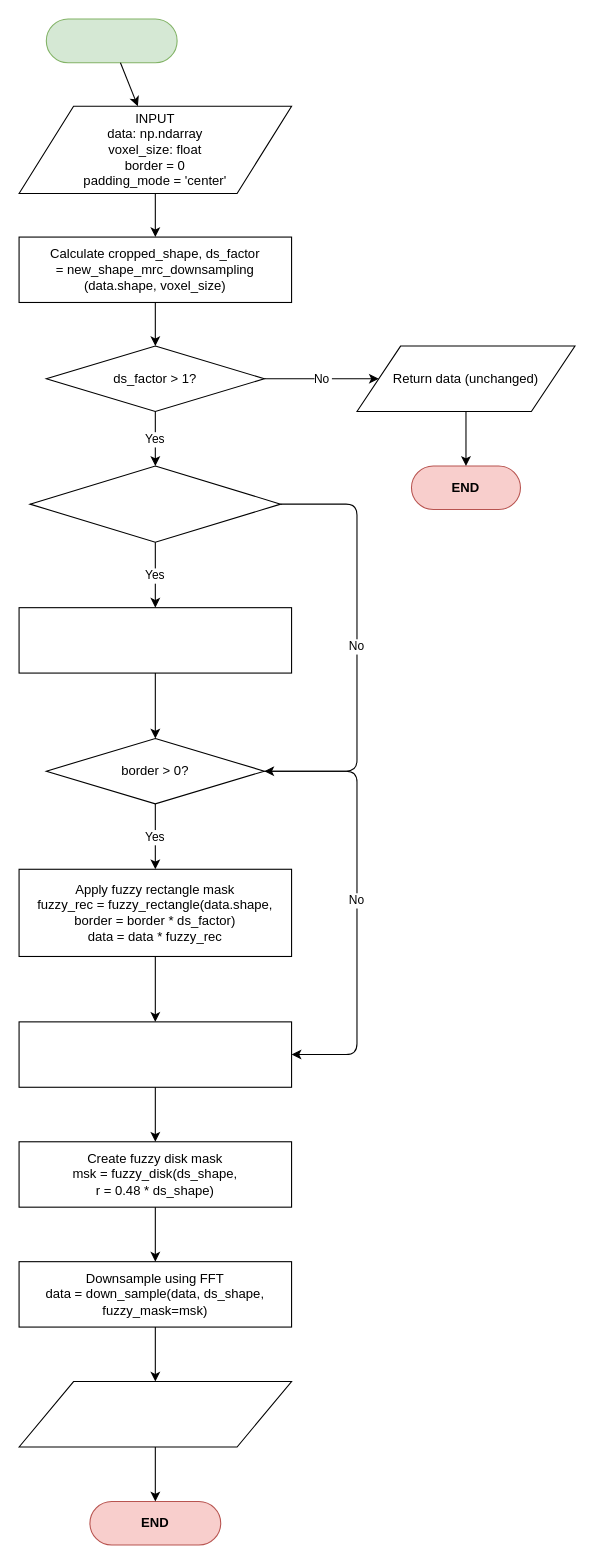
This 594x1564 diagram has some shape labels left out. Each missing label, with the centre of its shape:
"Any dim of cropped_shape < data.shape?" belongs at point 155,503.
"Calculate ds_shape = (data.shape[0] // ds_factor, data.shape[1] // ds_factor)" belongs at point 155,1054.
"Crop image data = crop_im(data, cropped_shape, mode=padding_mode)" belongs at point 155,640.
"Return downsampled data" belongs at point 155,1413.
"START" belongs at point 111,40.
